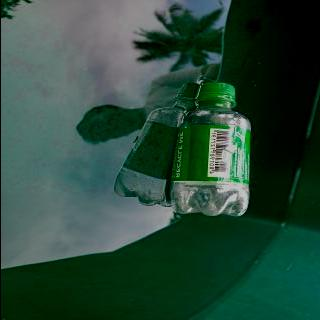bottle: (168, 80, 252, 218)
